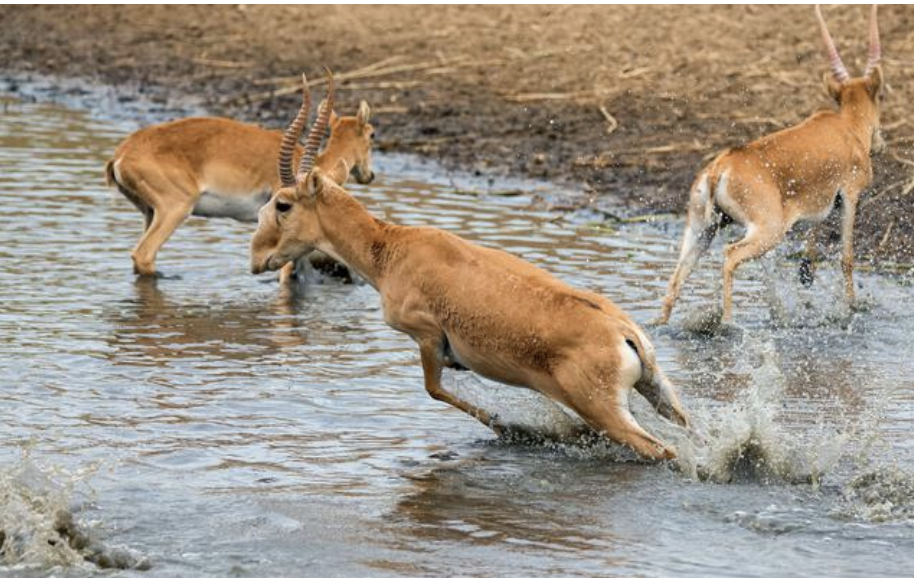saiga: (246, 56, 703, 461)
